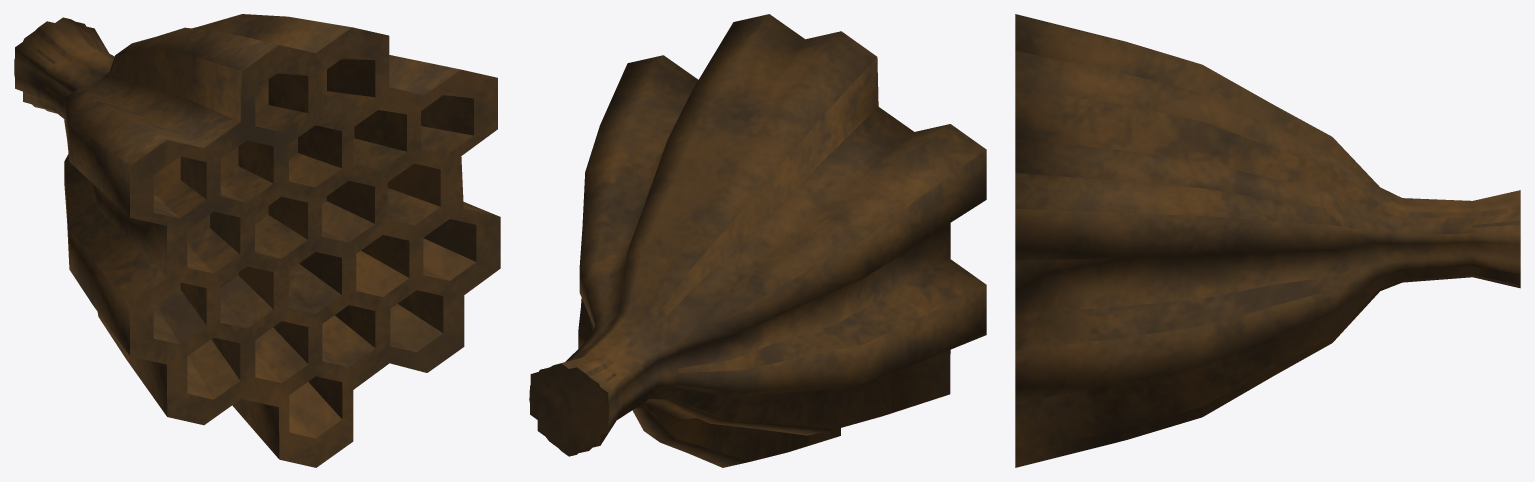
File: honeycomb13.fbx
The picture shows the model from 3 angles, left to right: view 1: azimuth 30°, elevation 25°; view 2: azimuth 150°, elevation 25°; view 3: azimuth 270°, elevation 25°; orthographic projection. The views are drawn at different scales.
Parts seen in each view (by area): view 1: Cube.001; view 2: Cube.001; view 3: Cube.001.
Part boxes in pixels (x1,y1,x2,y2): Cube.001: (14, 14, 500, 467); Cube.001: (529, 14, 986, 467); Cube.001: (1015, 14, 1520, 467).
Bounding box in the file's own units: 1270 × 1415 × 1492.
